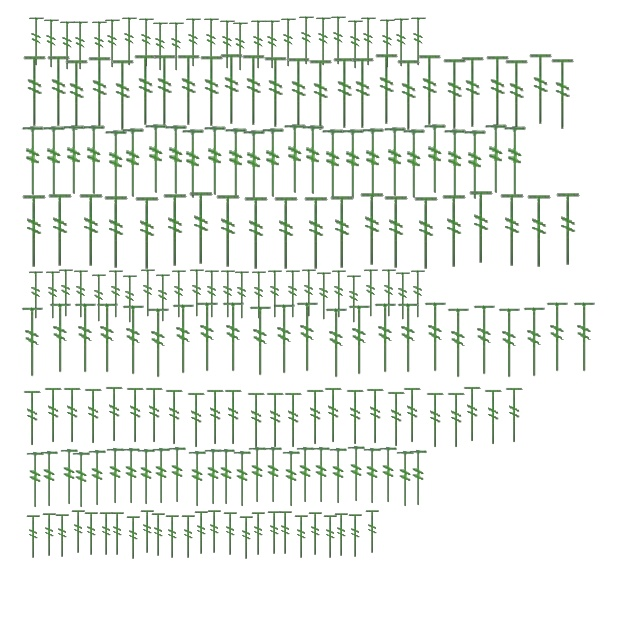fan: (20, 193, 50, 269), (46, 192, 76, 268), (102, 194, 132, 270), (214, 193, 244, 269), (242, 195, 272, 271), (272, 195, 302, 271), (302, 195, 332, 271), (328, 194, 358, 270), (358, 191, 388, 267), (382, 194, 412, 270), (412, 195, 442, 271), (440, 193, 470, 269), (498, 192, 528, 268), (554, 191, 584, 267), (78, 192, 106, 268), (134, 195, 162, 271), (162, 192, 190, 268), (188, 190, 216, 266), (468, 189, 496, 265), (526, 193, 554, 269), (72, 300, 100, 376), (94, 300, 122, 376), (120, 302, 148, 378), (170, 301, 198, 377), (194, 299, 222, 375), (220, 299, 248, 375), (294, 299, 322, 375), (346, 302, 374, 378), (372, 300, 400, 376), (422, 299, 450, 375), (496, 305, 524, 381), (544, 299, 572, 375), (21, 54, 49, 128), (45, 54, 73, 128), (63, 58, 91, 132), (86, 55, 114, 129), (109, 58, 137, 132), (132, 53, 160, 127), (151, 53, 179, 127), (175, 53, 203, 127), (198, 54, 226, 128), (218, 52, 246, 126), (240, 53, 268, 127), (262, 55, 290, 129), (285, 56, 313, 130), (307, 58, 335, 132), (331, 56, 359, 130), (349, 56, 377, 130), (373, 52, 401, 126), (395, 58, 423, 132), (416, 53, 444, 127), (441, 57, 469, 131), (459, 55, 487, 129), (484, 54, 512, 128), (503, 58, 531, 132), (527, 52, 555, 126), (549, 57, 577, 131), (20, 304, 46, 380), (48, 300, 74, 376), (146, 305, 172, 381), (248, 303, 274, 379), (272, 301, 298, 377), (324, 305, 350, 381), (396, 300, 422, 376), (446, 305, 472, 381), (472, 302, 498, 378), (522, 304, 548, 380), (572, 299, 598, 375), (20, 125, 46, 197), (120, 127, 146, 199), (180, 128, 206, 200), (202, 125, 228, 197), (260, 127, 286, 199), (282, 123, 308, 195), (300, 124, 326, 196), (320, 128, 346, 200), (340, 128, 366, 200), (360, 127, 386, 199), (382, 126, 408, 198), (422, 123, 448, 195), (442, 128, 468, 200), (462, 129, 488, 201), (502, 125, 528, 197), (42, 125, 66, 197), (62, 124, 86, 196), (82, 124, 106, 196), (104, 129, 128, 201), (144, 123, 168, 195), (164, 124, 188, 196), (224, 127, 248, 199), (242, 129, 266, 201), (402, 128, 426, 200), (484, 123, 508, 195), (22, 389, 44, 447), (62, 386, 84, 444), (104, 385, 126, 443), (144, 386, 166, 444), (164, 388, 186, 446), (186, 391, 208, 449), (246, 391, 268, 449), (386, 390, 408, 448), (402, 386, 424, 444), (446, 391, 468, 449), (462, 385, 484, 443), (504, 386, 526, 444), (44, 386, 64, 444), (84, 387, 104, 445), (126, 386, 146, 444), (206, 388, 226, 446), (224, 388, 244, 446), (266, 391, 286, 449), (284, 391, 304, 449), (306, 388, 326, 446), (324, 386, 344, 444), (346, 388, 366, 446), (366, 387, 386, 445), (426, 391, 446, 449), (484, 388, 504, 446), (25, 451, 45, 509), (39, 450, 59, 508), (59, 448, 79, 506), (71, 451, 91, 509), (87, 449, 107, 507), (105, 447, 125, 505), (121, 447, 141, 505), (136, 448, 156, 506), (151, 447, 171, 505), (167, 446, 187, 504), (187, 450, 207, 508), (203, 448, 223, 506), (216, 448, 236, 506), (232, 450, 252, 508), (247, 446, 267, 504), (263, 446, 283, 504), (281, 450, 301, 508), (295, 446, 315, 504), (311, 446, 331, 504), (328, 447, 348, 505), (346, 445, 366, 503), (362, 447, 382, 505), (378, 446, 398, 504), (395, 450, 415, 508), (408, 449, 428, 507), (184, 16, 204, 70), (202, 16, 222, 70), (218, 18, 238, 72), (346, 18, 366, 72), (392, 16, 412, 70), (42, 18, 62, 70), (58, 20, 78, 72), (90, 20, 110, 72), (120, 16, 140, 68), (314, 16, 334, 68), (378, 18, 398, 70), (138, 16, 156, 70), (152, 20, 170, 74), (168, 20, 186, 74), (232, 20, 250, 74), (250, 18, 268, 72), (264, 18, 282, 72), (280, 16, 298, 70), (298, 14, 316, 68), (330, 14, 348, 68), (28, 16, 46, 68), (72, 20, 90, 72), (104, 18, 122, 70), (360, 16, 378, 68), (410, 16, 428, 68), (27, 269, 45, 321), (44, 269, 62, 321), (57, 267, 75, 319), (72, 268, 90, 320), (90, 272, 108, 324), (107, 268, 125, 320), (121, 273, 139, 325), (139, 267, 157, 319), (154, 272, 172, 324), (170, 268, 188, 320), (188, 267, 206, 319), (203, 268, 221, 320), (219, 268, 237, 320), (233, 269, 251, 321), (250, 269, 268, 321), (266, 268, 284, 320), (284, 268, 302, 320), (300, 267, 318, 319), (315, 270, 333, 322), (330, 268, 348, 320), (345, 273, 363, 325), (362, 267, 380, 319), (380, 267, 398, 319), (394, 270, 412, 322), (409, 268, 427, 320), (150, 512, 168, 558), (164, 514, 182, 560), (180, 514, 198, 560), (266, 510, 284, 556), (322, 514, 340, 560), (54, 514, 72, 558), (70, 510, 88, 554), (98, 512, 116, 556), (206, 510, 224, 554), (222, 512, 240, 556), (238, 516, 256, 560), (250, 512, 268, 556), (364, 510, 382, 554), (26, 514, 42, 560), (42, 512, 58, 558), (194, 510, 210, 556), (278, 510, 294, 556), (294, 514, 310, 560), (334, 512, 350, 558), (84, 512, 100, 556), (110, 512, 126, 556), (126, 516, 142, 560), (140, 510, 156, 554), (308, 512, 324, 556), (348, 514, 364, 558)
